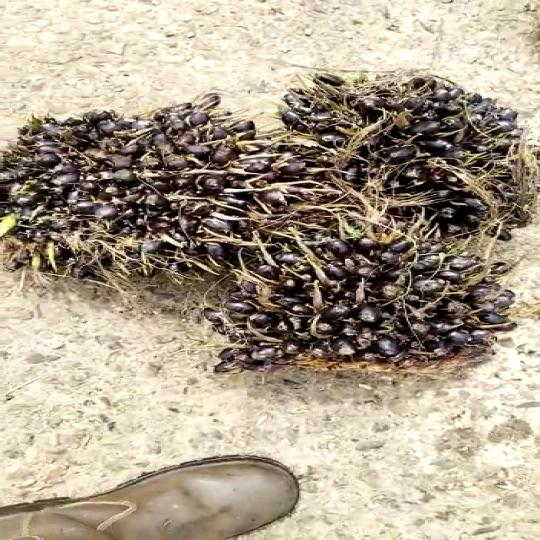mentah: (0, 114, 344, 283), (201, 247, 540, 389), (265, 82, 540, 250)
